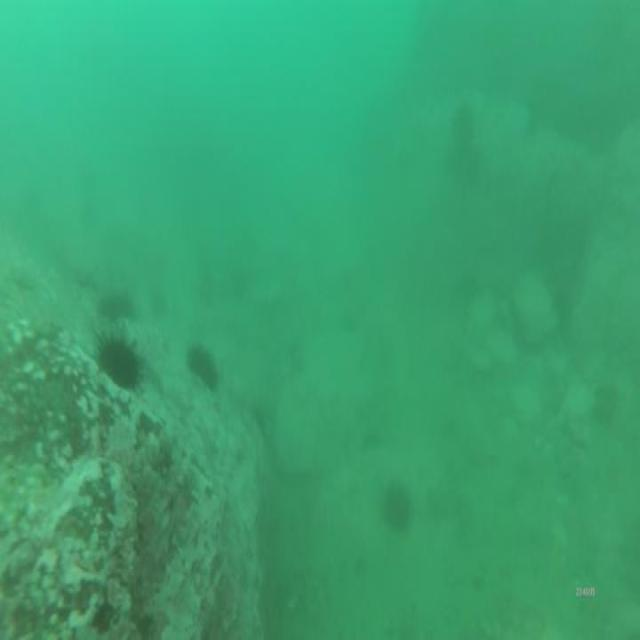echinus: (90, 324, 148, 392), (184, 338, 221, 392), (382, 479, 414, 537), (95, 291, 135, 332), (449, 98, 478, 147)
